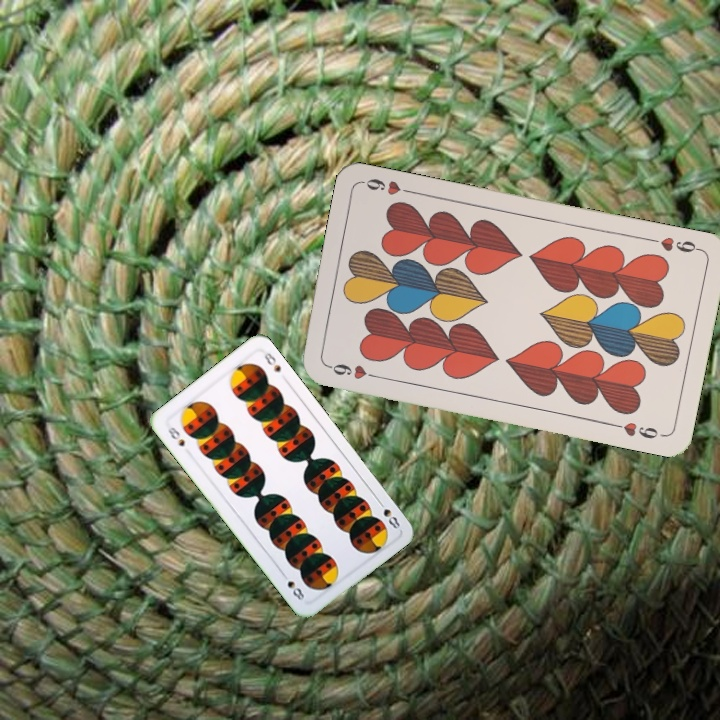H9: (323, 359, 382, 382), (645, 233, 703, 256)
S8: (373, 496, 403, 532), (163, 423, 187, 449)
